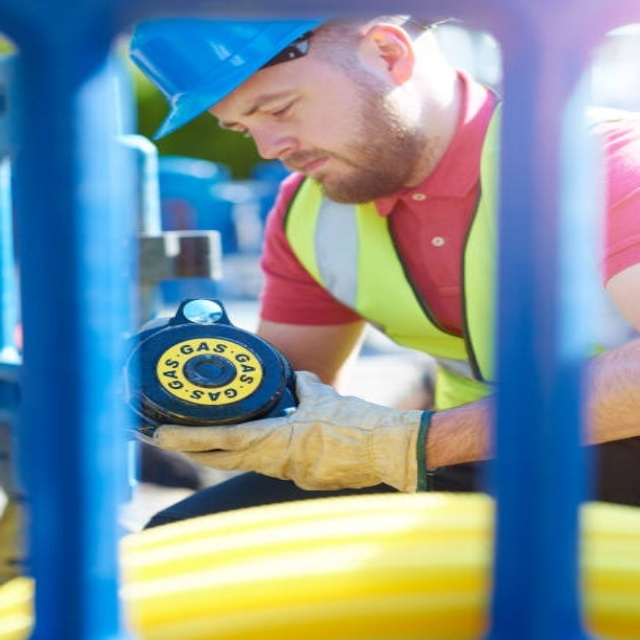Guantes: (144, 373, 434, 494)
Sin_gafas: (213, 87, 307, 147)
Sin_mascara: (279, 145, 355, 201)
